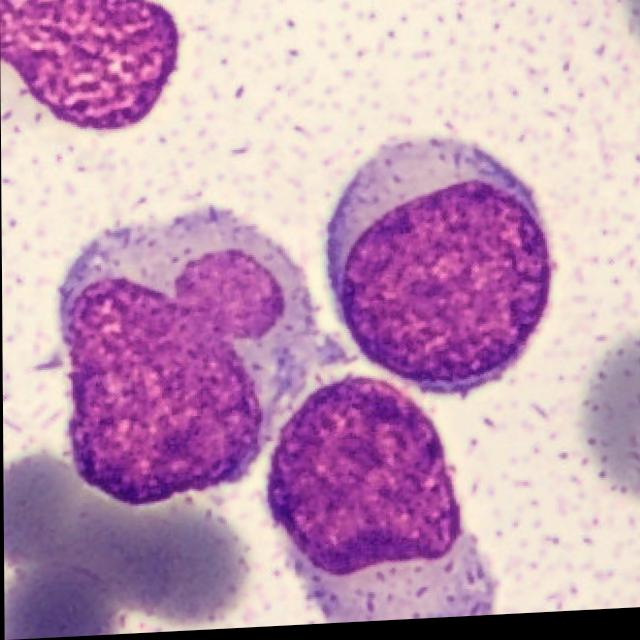Restos celulares: (0, 0, 179, 134)
